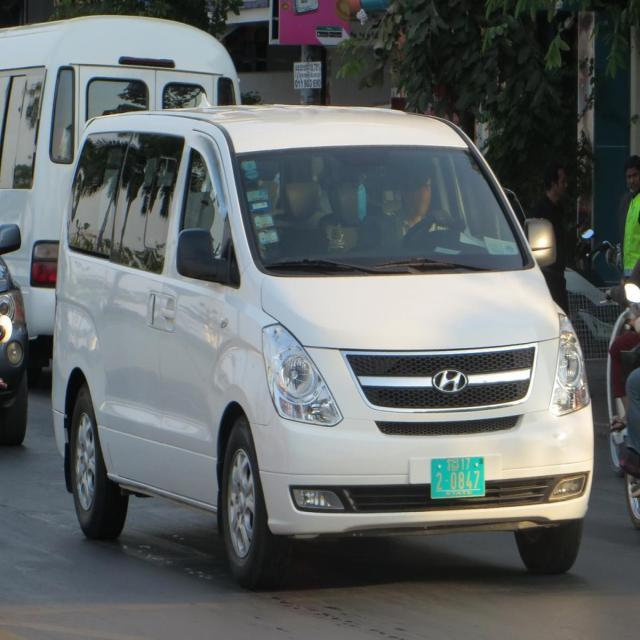State: (447, 458, 460, 472)
